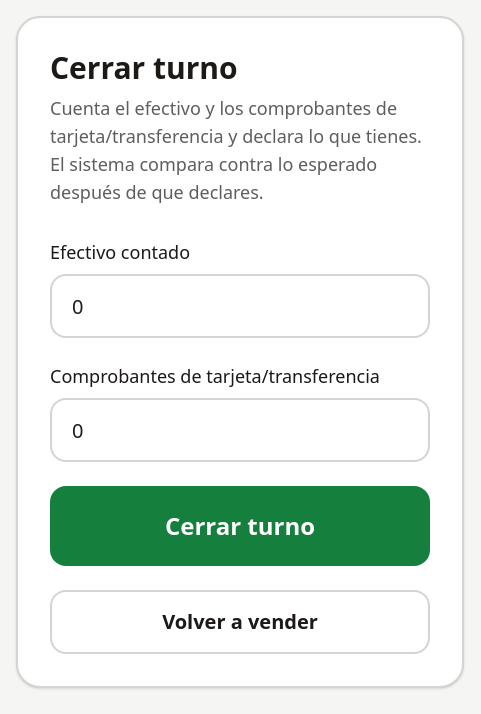
Scenario: CloseShiftScreen › envía lo declarado y muestra "Coincide" en verde cuando no hay diferencia
Replace the text in the number field labelled "Efectivo contado" with "500": [240, 306] box left=50, top=274, right=430, bottom=338
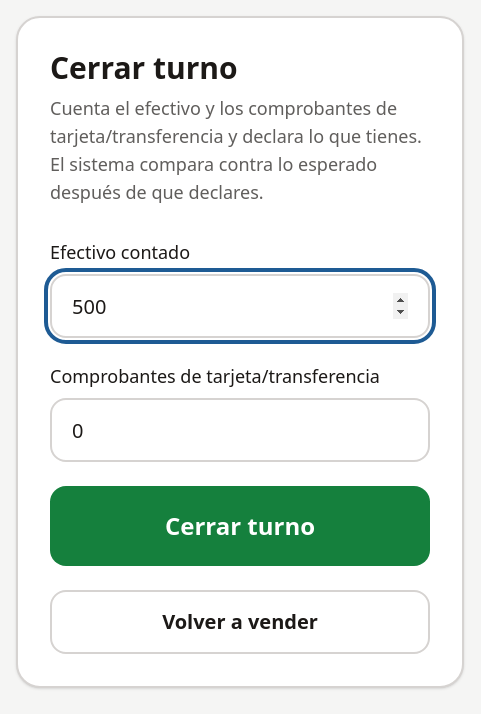
Click the button "Cerrar turno": [240, 526] box left=50, top=486, right=430, bottom=566
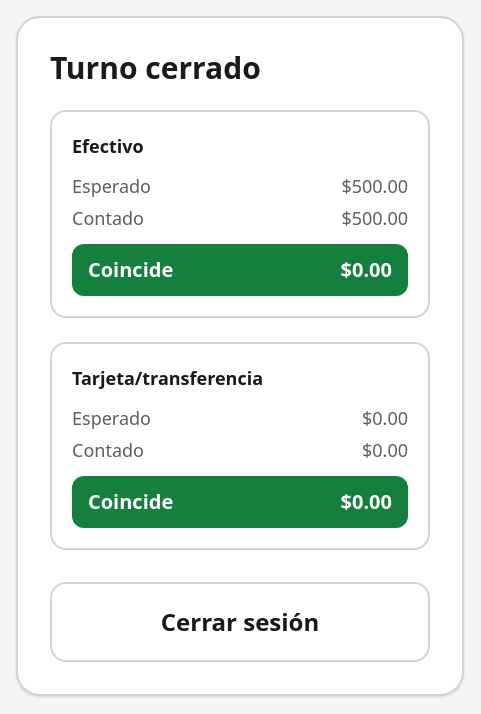
Expected: the text "Coincide" is shown 2 times, left=88, top=256, right=173, bottom=284; left=88, top=488, right=173, bottom=516
Expected: the label labelled "Efectivo contado" is gone
